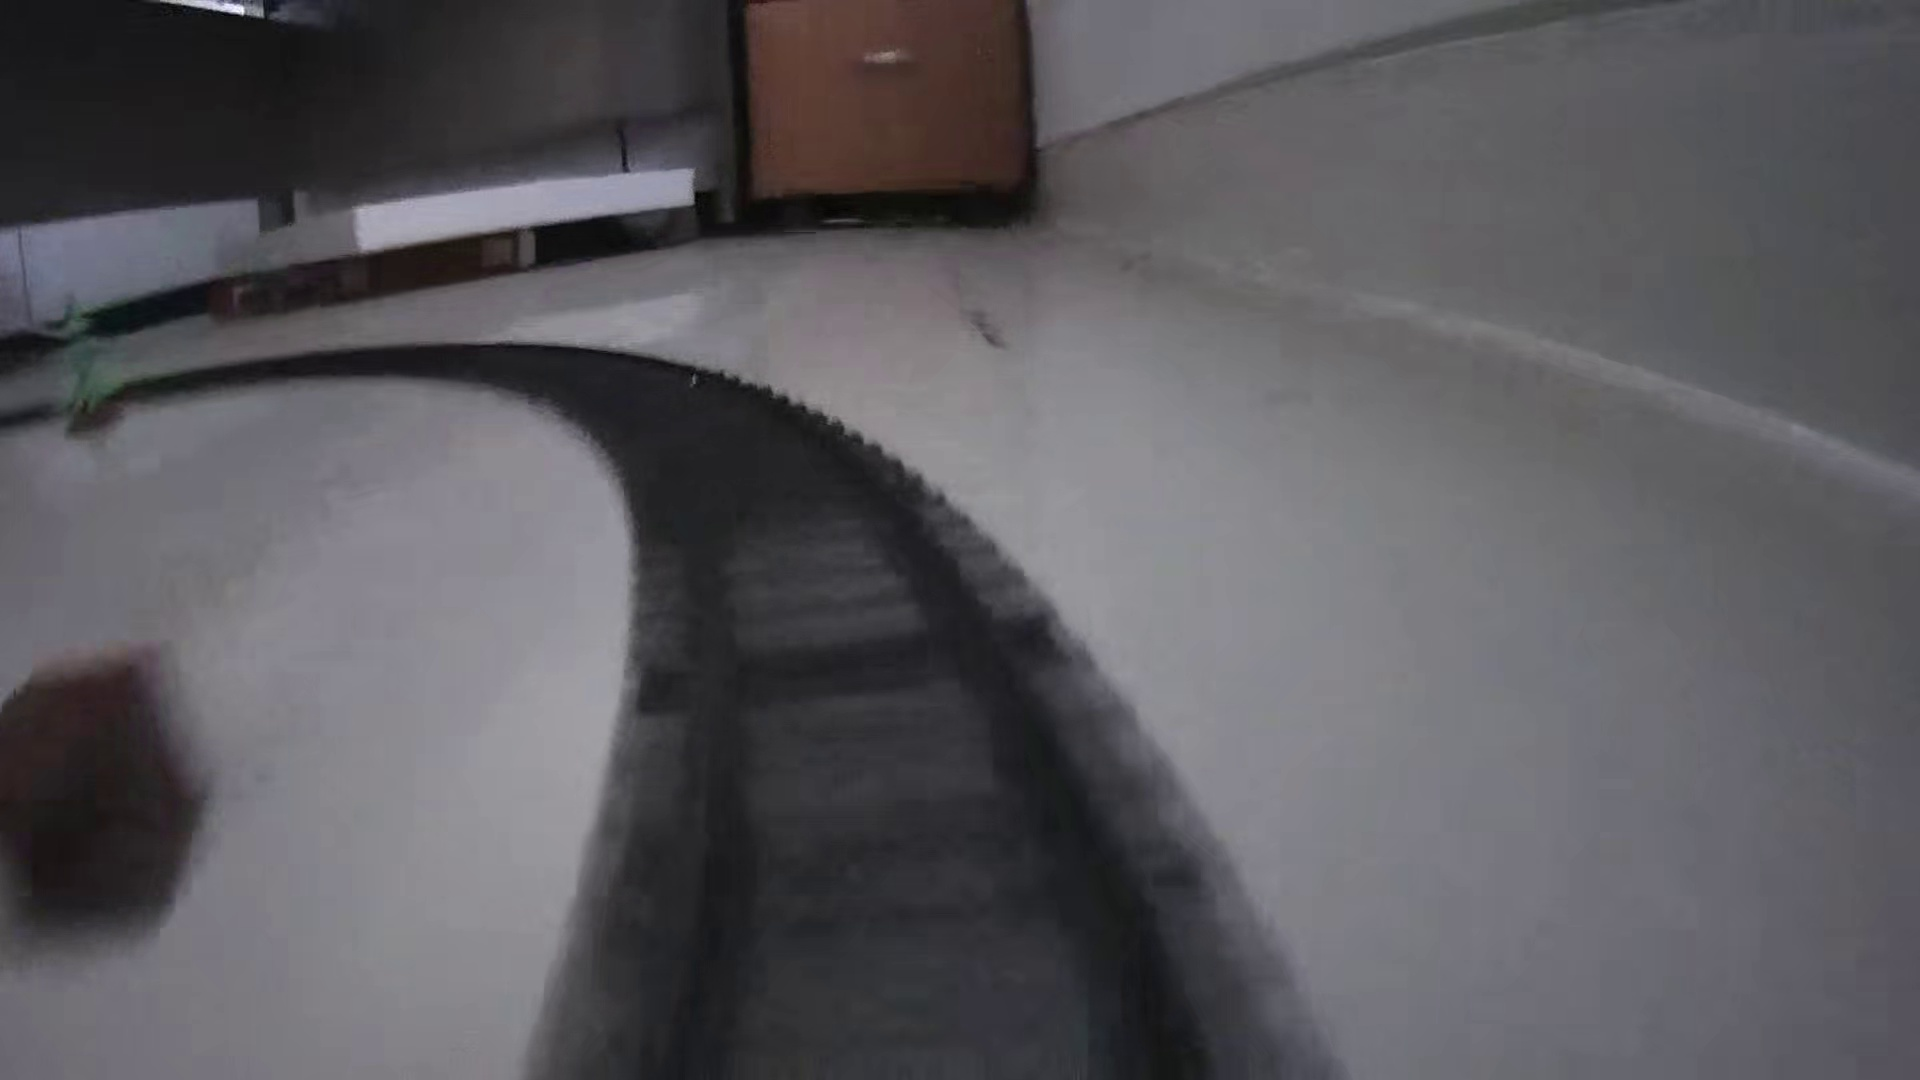box: (1, 641, 210, 929)
tree: (34, 287, 126, 442)
